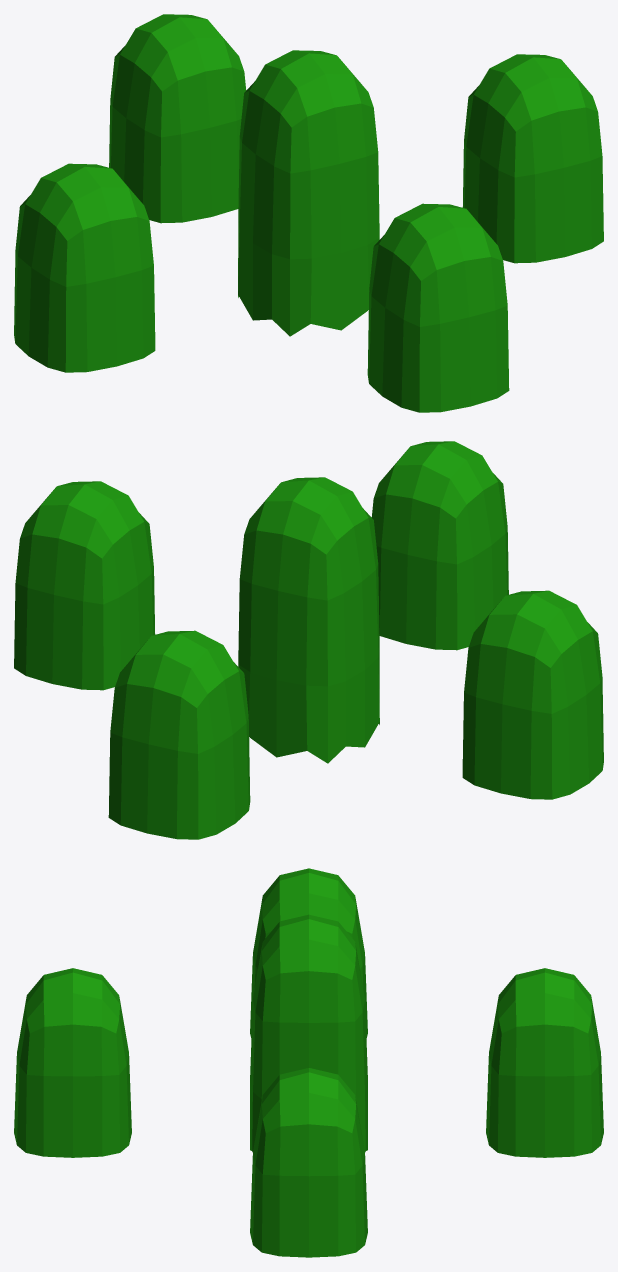
File: grass.gltf
3 renders of one model, top to bottom at view 1: azimuth 30°, elevation 25°; view 2: azimuth 150°, elevation 25°; view 3: azimuth 270°, elevation 25°, orthographic. The views are drawn at different scales.
Parts seen in each view (by area): view 1: grass; view 2: grass; view 3: grass.
Part boxes in pixels (x1,y1,x2,y2): grass: [14, 14, 603, 412]; grass: [14, 441, 603, 839]; grass: [14, 868, 603, 1257].
Bounding box in the file's own units: 0.3125 × 0.135 × 0.3125.
1 material, 1 textured.
